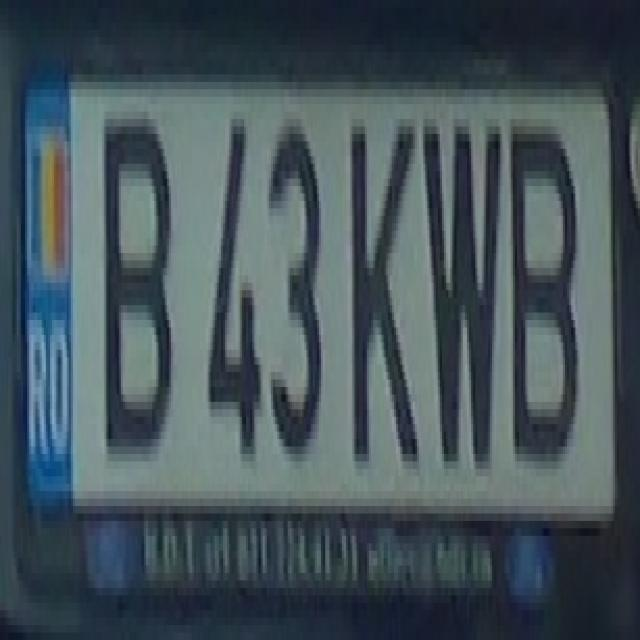licenseplate: (8, 24, 632, 604)
